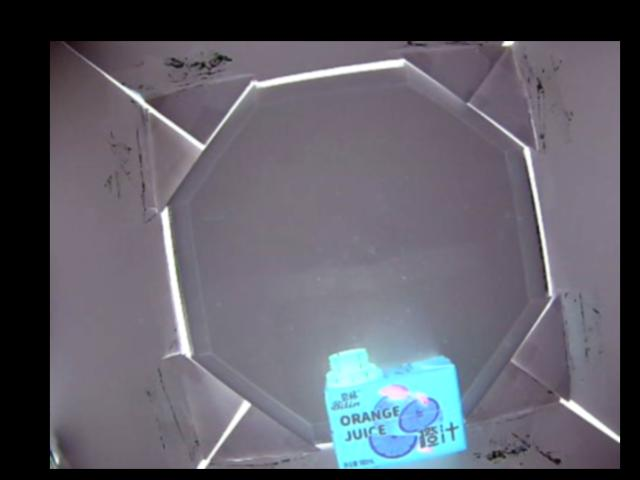Bottle: (324, 348, 470, 467)
